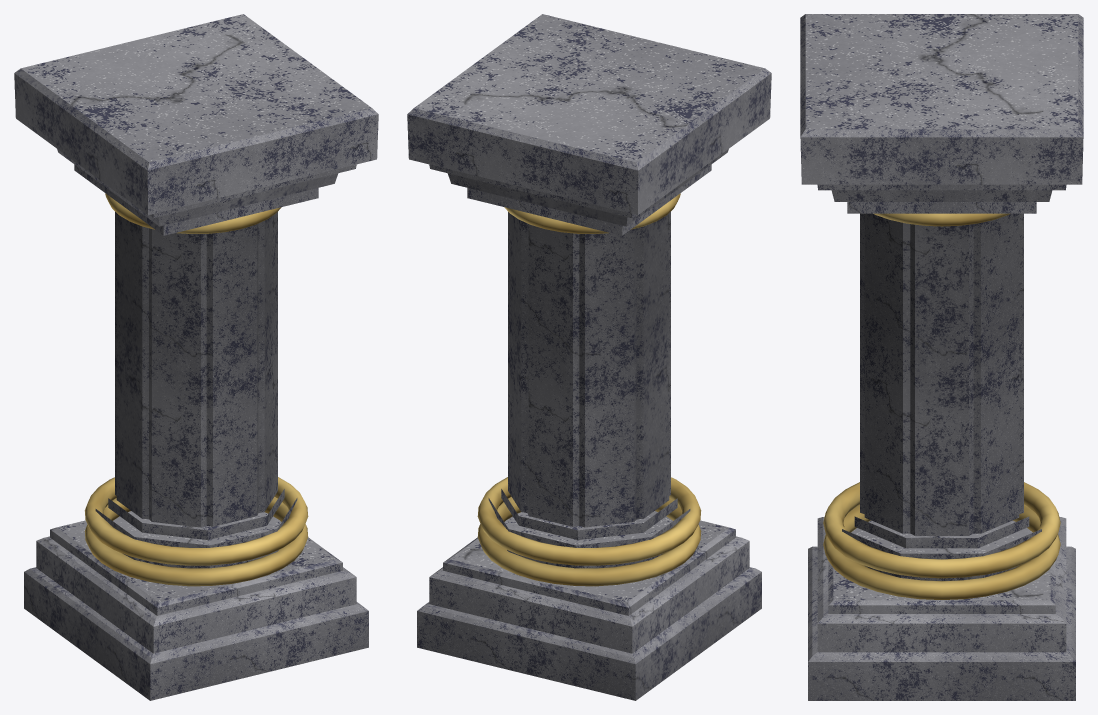
The model's file is mm6_deco_pedestal.glb.
3 views of the same model, side by side, from view 1: azimuth 30°, elevation 25°; view 2: azimuth 150°, elevation 25°; view 3: azimuth 270°, elevation 25° (orthographic). The views are drawn at different scales.
Visible parts, largest first — view 1: Pedestal; view 2: Pedestal; view 3: Pedestal.
Part boxes in pixels (x1=…): Pedestal: x1=14, y1=14, x2=378, y2=700; Pedestal: x1=407, y1=14, x2=771, y2=700; Pedestal: x1=800, y1=14, x2=1083, y2=700.
Bounding box in the file's own units: 0.8225 × 1.84 × 0.8225.
Materials: 2 (2 with a texture image).
